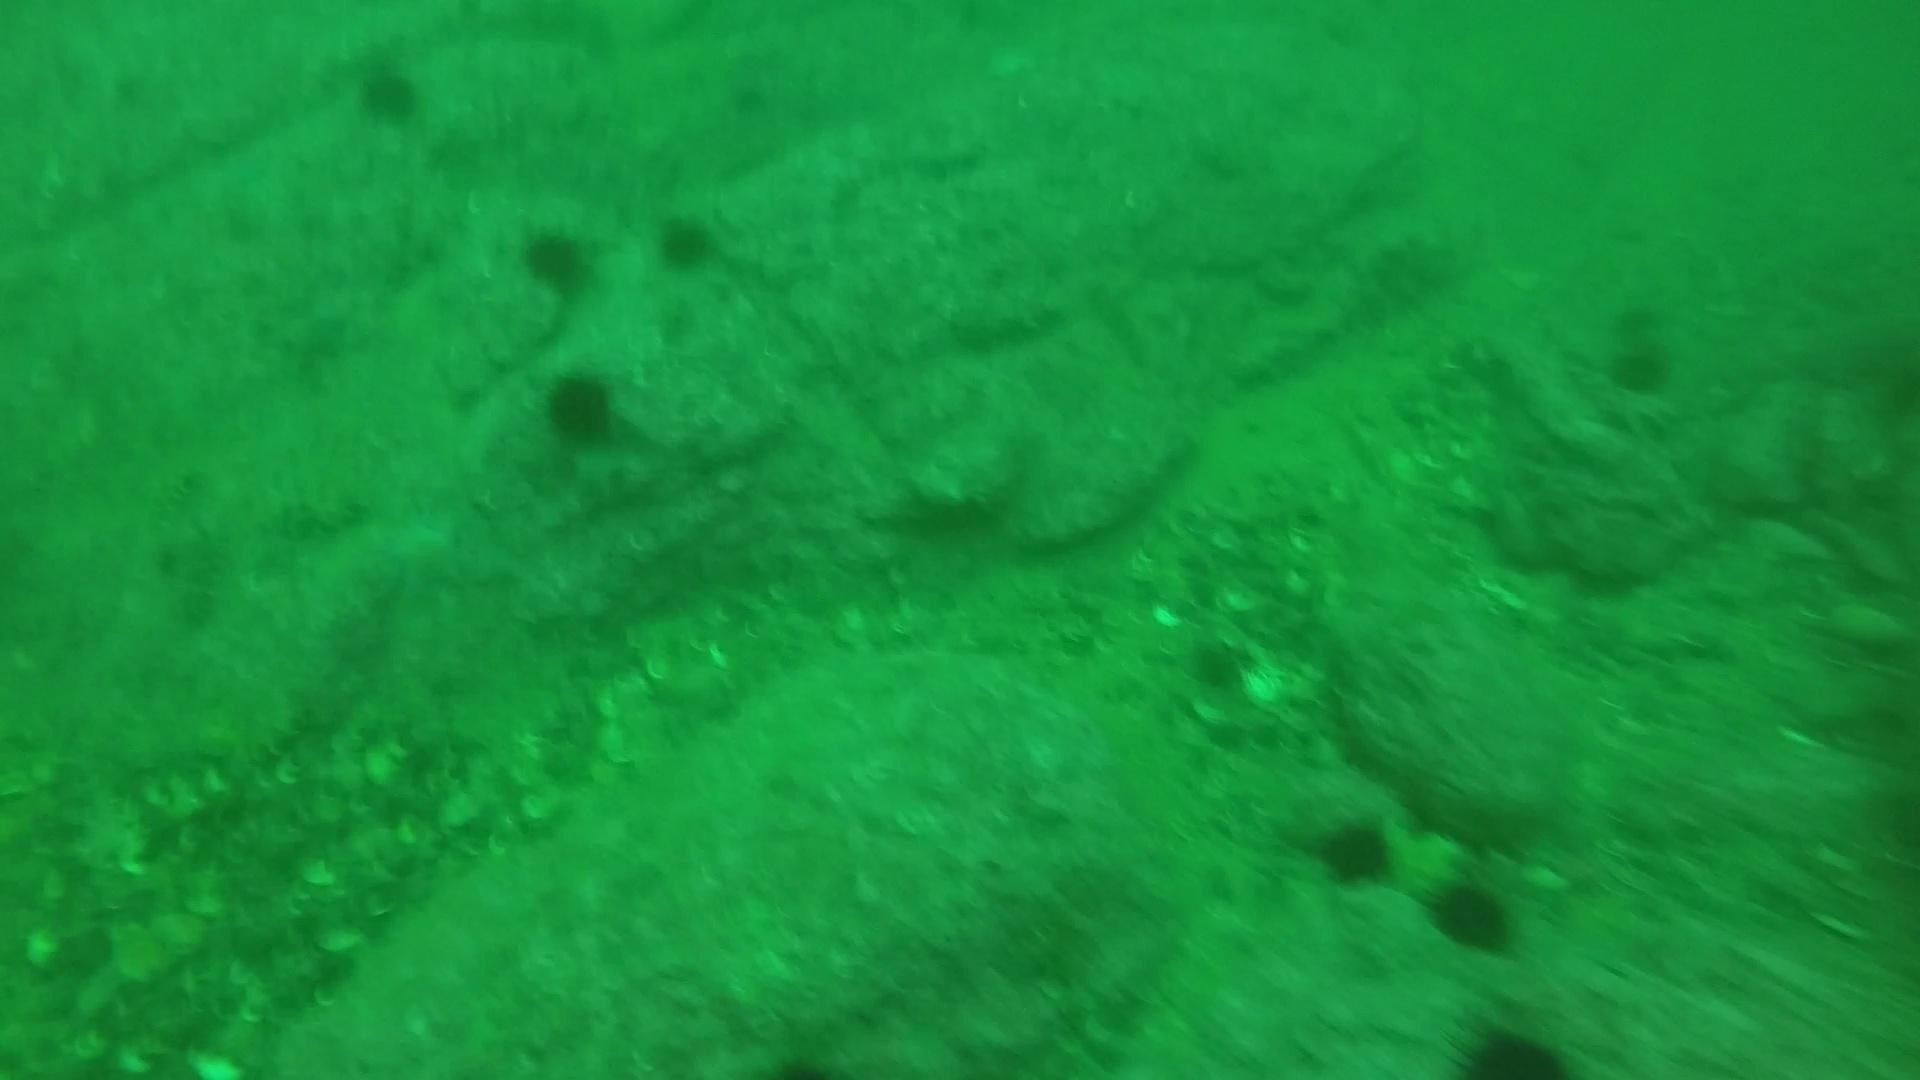echinus: (1422, 872, 1522, 959), (534, 364, 626, 454), (1307, 810, 1400, 893), (1449, 1018, 1575, 1077), (514, 219, 599, 301), (1601, 324, 1679, 400), (349, 55, 429, 129), (649, 207, 723, 276)
starfish: (363, 500, 477, 611)
